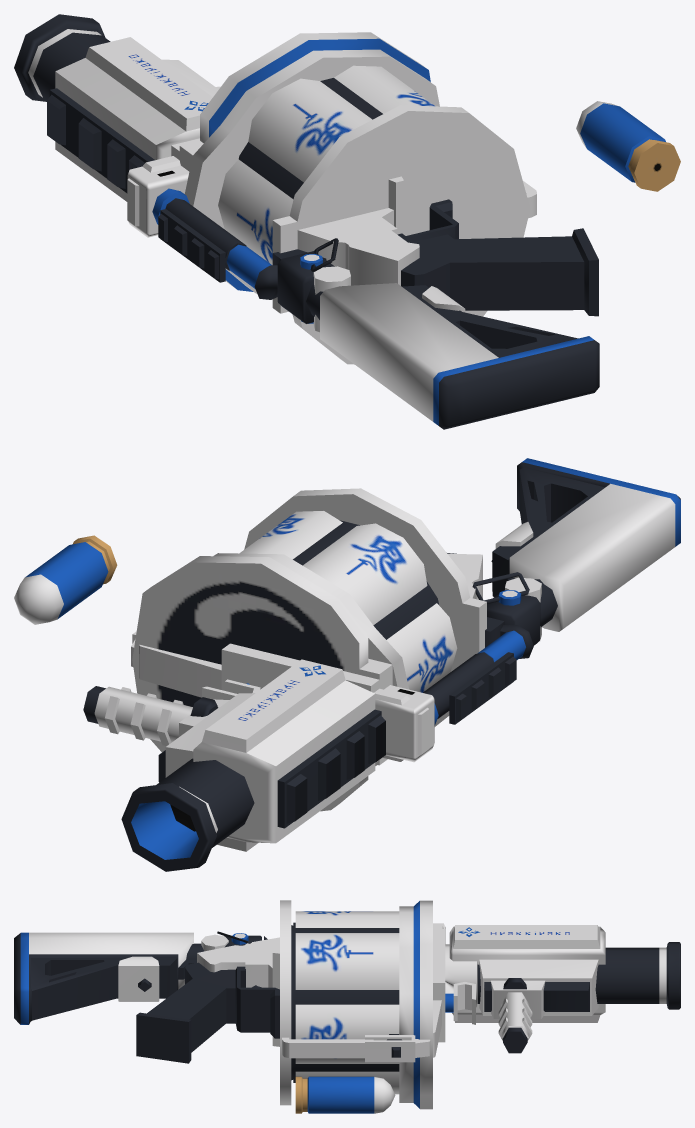
File: chise.glb
3 views of the same model, one above another, from view 1: azimuth 30°, elevation 25°; view 2: azimuth 150°, elevation 25°; view 3: azimuth 270°, elevation 25° (orthographic). The views are drawn at different scales.
Visible parts, largest first — view 1: Chise_Original_Weapon; view 2: Chise_Original_Weapon; view 3: Chise_Original_Weapon.
Boxes of the visible parts, left/top/right/bottom form: Chise_Original_Weapon: left=14, top=14, right=680, bottom=429; Chise_Original_Weapon: left=14, top=458, right=680, bottom=871; Chise_Original_Weapon: left=14, top=900, right=680, bottom=1113.
Bounding box in the file's own units: 0.23 × 0.1237 × 0.3966.
1 material, 1 textured.
